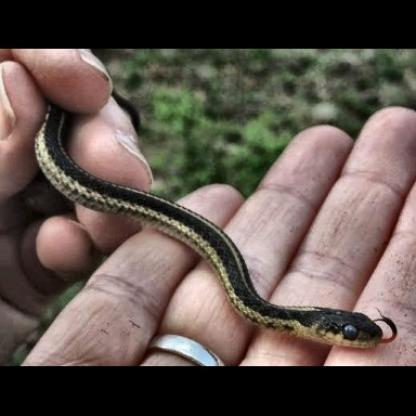Snake: (29, 112, 392, 350)
